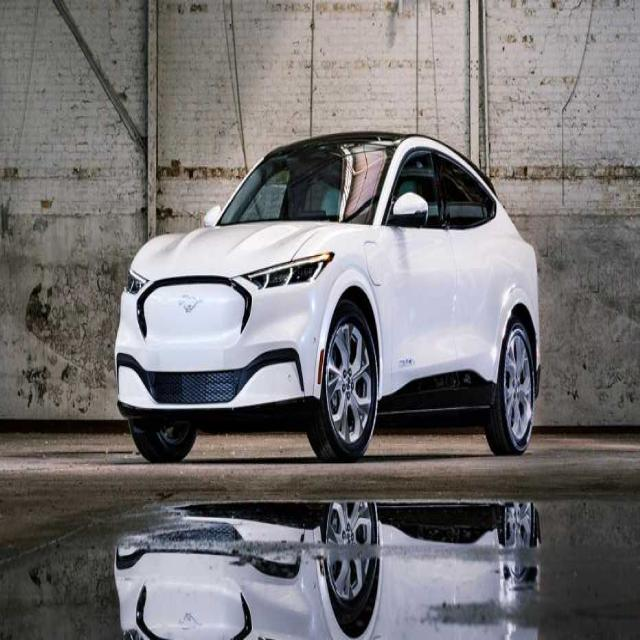SUV: (110, 127, 542, 462)
